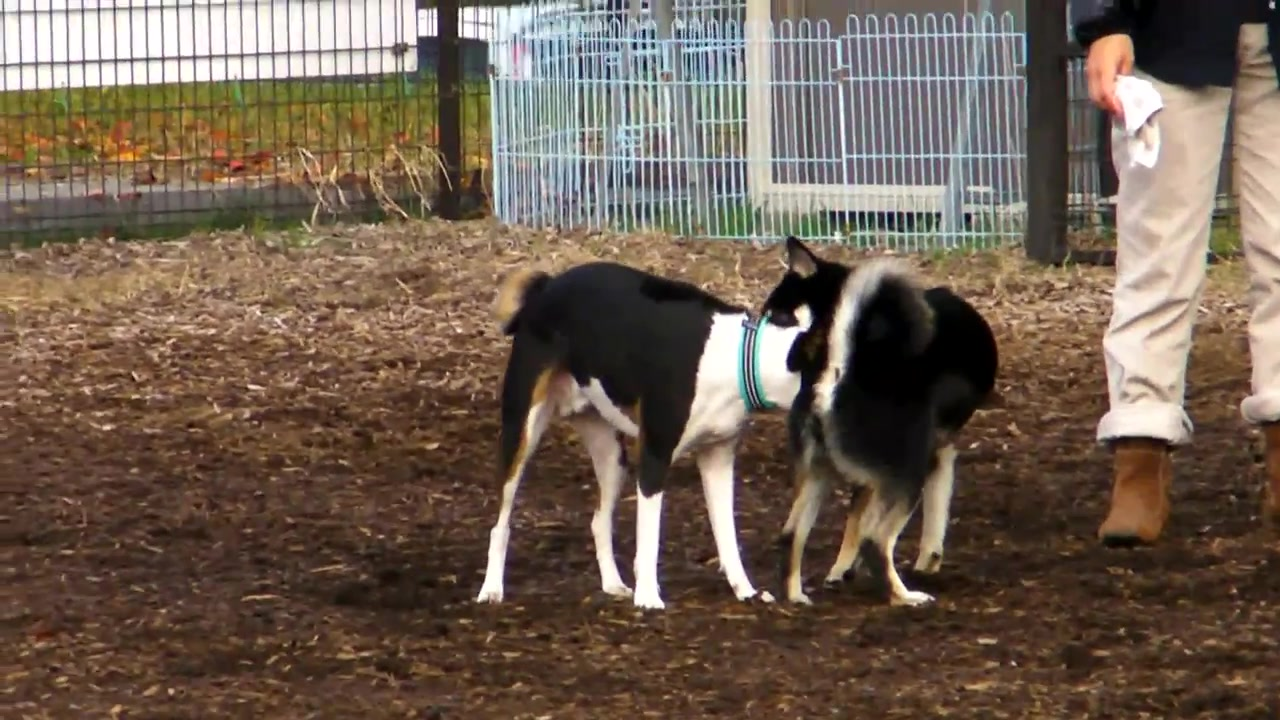dog: (759, 239, 1007, 610)
